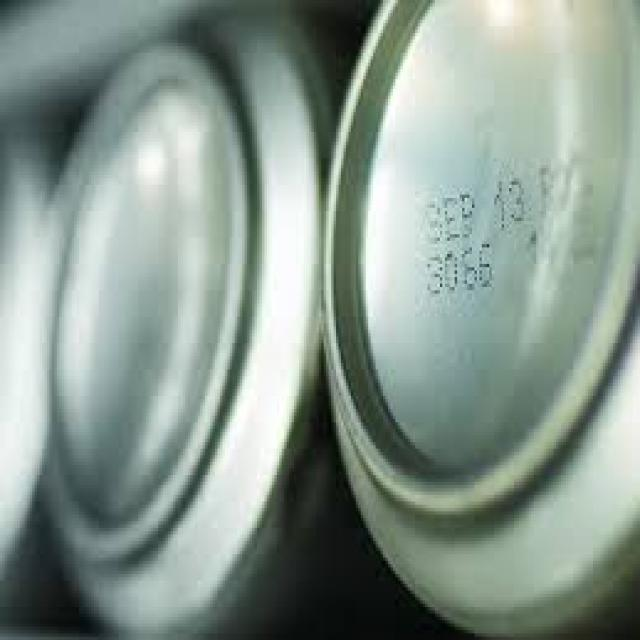Kaleng: (2, 0, 638, 637)
